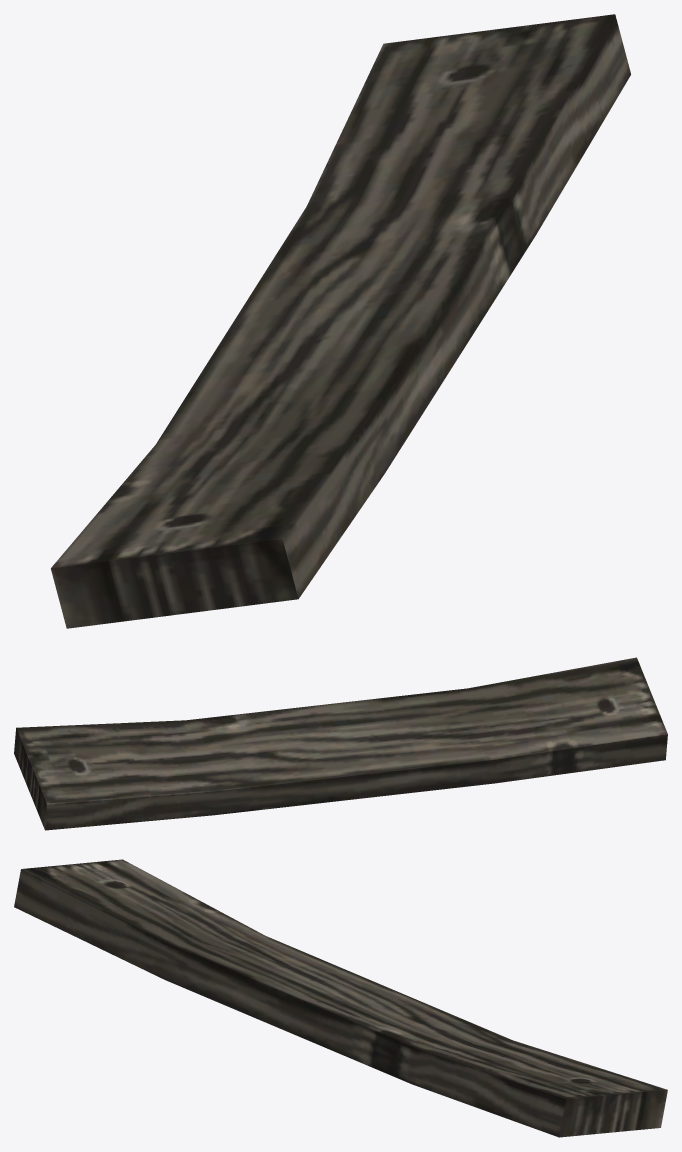
The model's file is ANIMATEDINSTANCES_BOARD_FALL1__BA.fbx.
3 renders of one model, top to bottom at view 1: azimuth 30°, elevation 25°; view 2: azimuth 150°, elevation 25°; view 3: azimuth 270°, elevation 25°, orthographic. The views are drawn at different scales.
Parts seen in each view (by area): view 1: ANIMATEDINSTANCES_BOARD_FALL1__BA; view 2: ANIMATEDINSTANCES_BOARD_FALL1__BA; view 3: ANIMATEDINSTANCES_BOARD_FALL1__BA.
Part boxes in pixels (x1=…): ANIMATEDINSTANCES_BOARD_FALL1__BA: x1=51, y1=14, x2=630, y2=628; ANIMATEDINSTANCES_BOARD_FALL1__BA: x1=14, y1=657, x2=667, y2=830; ANIMATEDINSTANCES_BOARD_FALL1__BA: x1=14, y1=859, x2=667, y2=1137.
Size of the model in its own units: 15490 by 2006 by 15489.
Materials: 1 (1 with a texture image).
